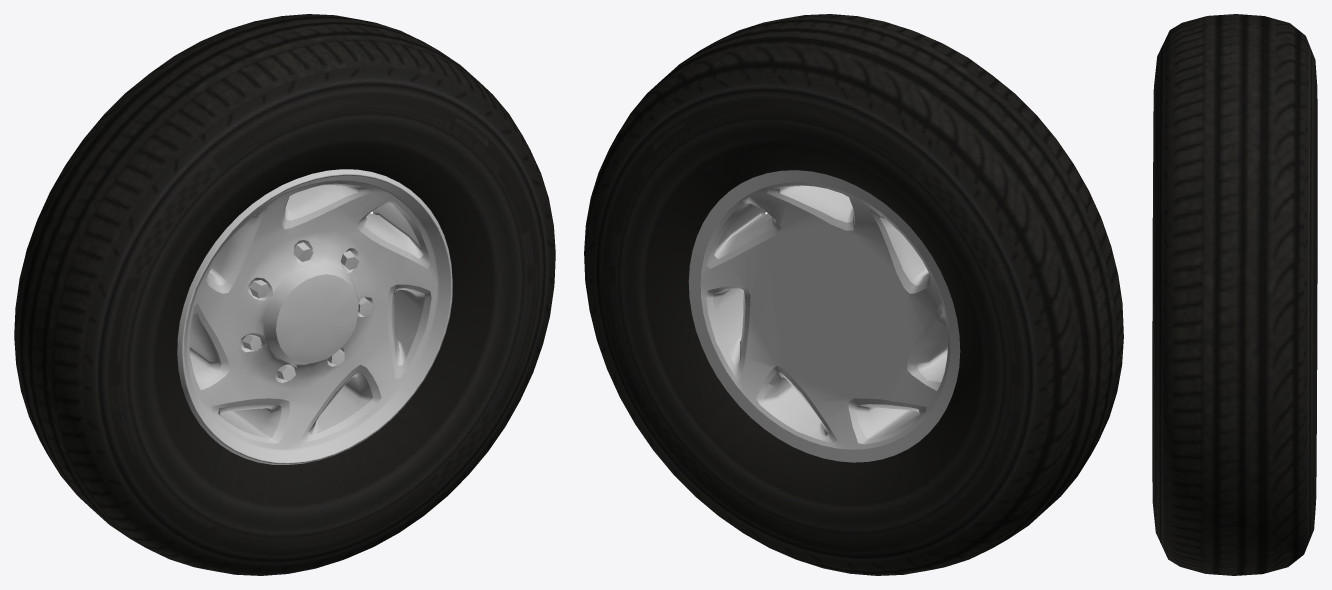
The picture shows the model from 3 angles, left to right: view 1: azimuth 30°, elevation 25°; view 2: azimuth 150°, elevation 25°; view 3: azimuth 270°, elevation 25°; orthographic projection. The views are drawn at different scales.
Parts seen in each view (by area): view 1: P615_5A_901B_R_P615_5A_901B_R_2_DM, P615_5A_901B_R_1_DaS_P615_5A_901B_R; view 2: P615_5A_901B_R_P615_5A_901B_R_2_DM, P615_5A_901B_R_1_DaS_P615_5A_901B_R; view 3: P615_5A_901B_R_P615_5A_901B_R_2_DM.
Part boxes in pixels (bbox=[...]): P615_5A_901B_R_P615_5A_901B_R_2_DM: bbox=[14, 14, 555, 575]; P615_5A_901B_R_1_DaS_P615_5A_901B_R: bbox=[177, 169, 452, 464]; P615_5A_901B_R_P615_5A_901B_R_2_DM: bbox=[584, 14, 1123, 575]; P615_5A_901B_R_1_DaS_P615_5A_901B_R: bbox=[688, 170, 960, 462]; P615_5A_901B_R_P615_5A_901B_R_2_DM: bbox=[1152, 14, 1317, 575].
Size of the model in its own units: 86.09 by 86.1 by 25.29.
